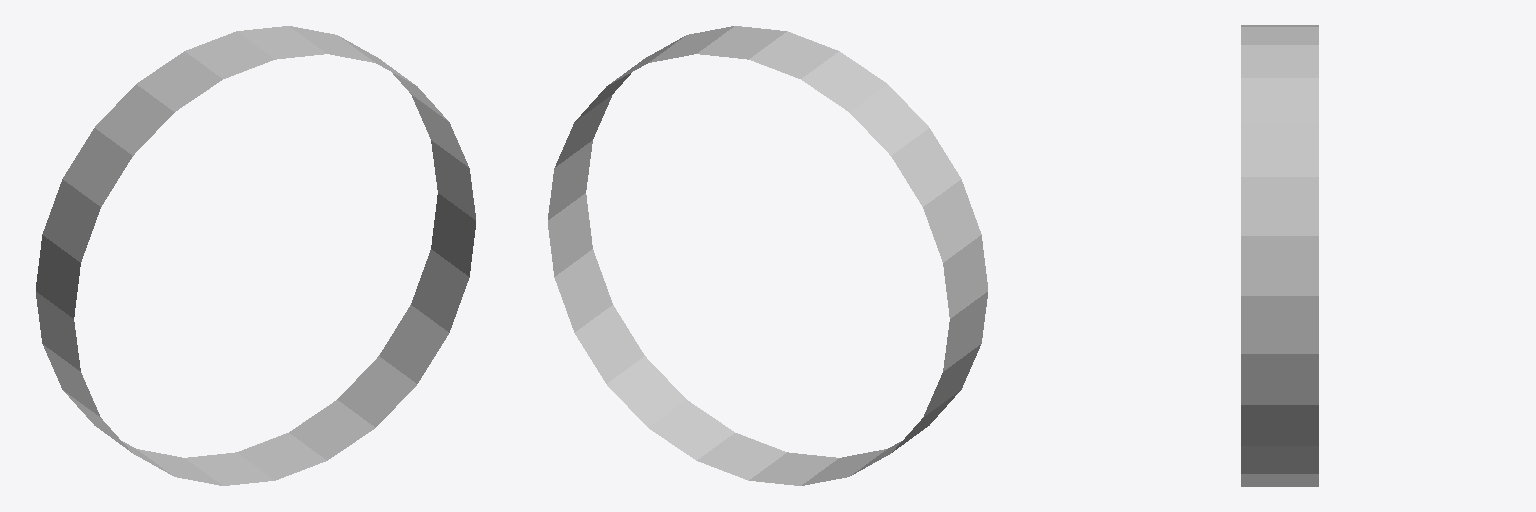
Rendered from original-3.obj.
The picture shows the model from 3 angles: view 1: azimuth 30°, elevation 25°; view 2: azimuth 150°, elevation 25°; view 3: azimuth 270°, elevation 25°; orthographic projection.
Visible parts, largest first — view 1: #ID225; view 2: #ID225; view 3: #ID225.
Boxes of the visible parts, <box> form: #ID225: <box>36,26,475,485</box>; #ID225: <box>548,26,987,485</box>; #ID225: <box>1241,25,1318,486</box>.
Size of the model in its own units: 0.1153 by 0.1153 by 0.0192.